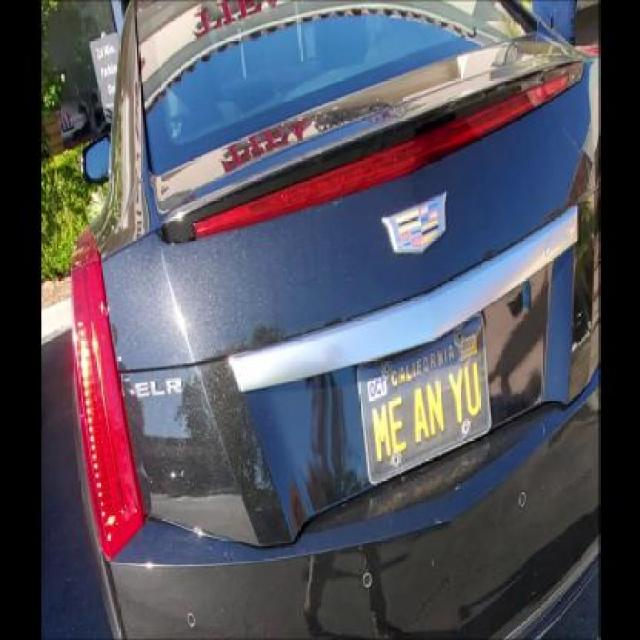licenseplate: (357, 317, 492, 489)
